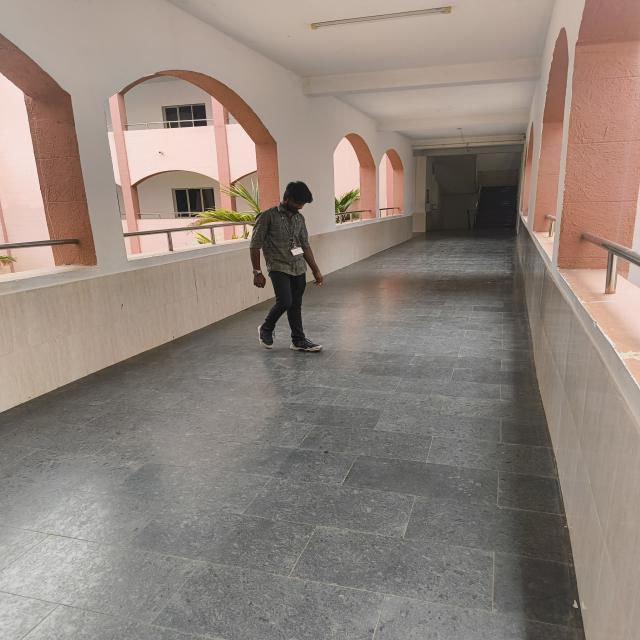id_card: (284, 214, 304, 258)
